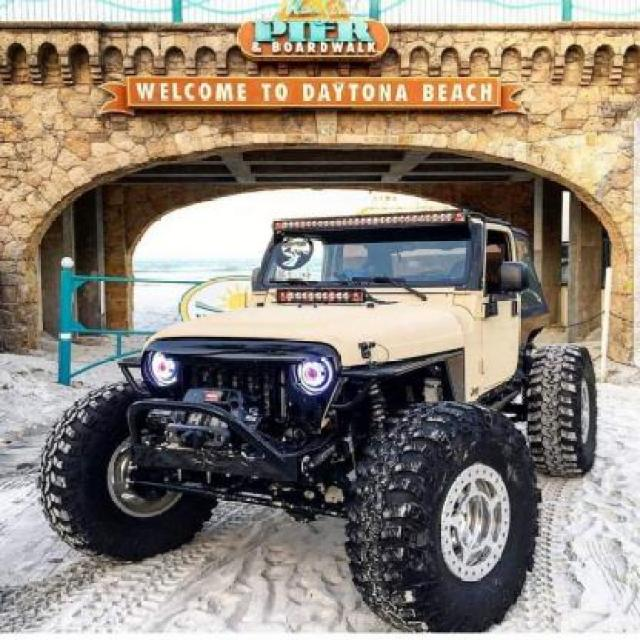Jeep: (33, 195, 608, 625)
